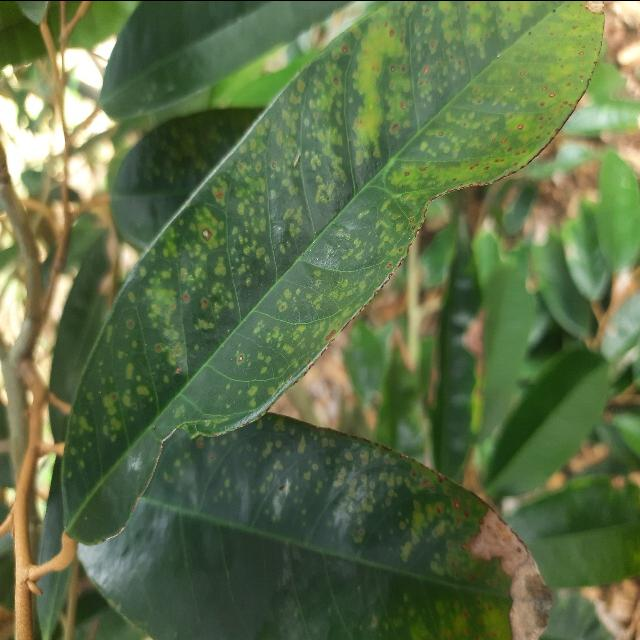Leaf Spot: (57, 0, 640, 547), (69, 407, 555, 640)
